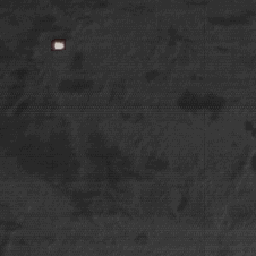Target: (51, 40, 66, 51)
